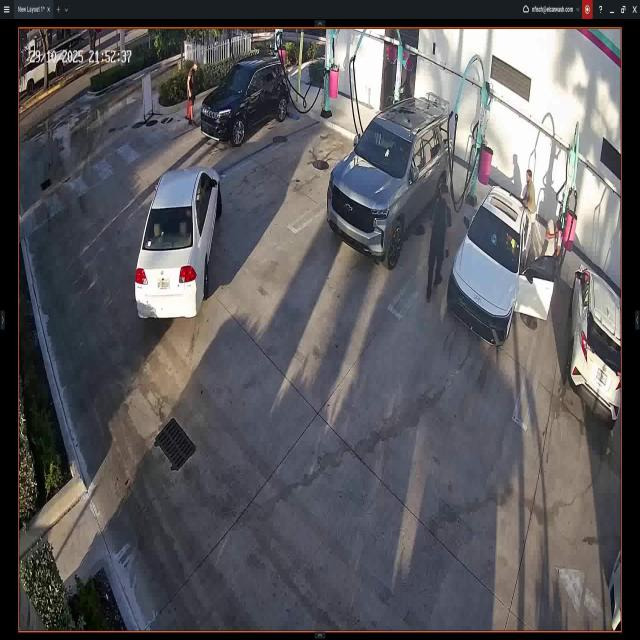Car: (327, 98, 450, 267), (445, 184, 559, 343), (134, 169, 213, 321), (570, 265, 620, 420), (200, 59, 287, 148)
